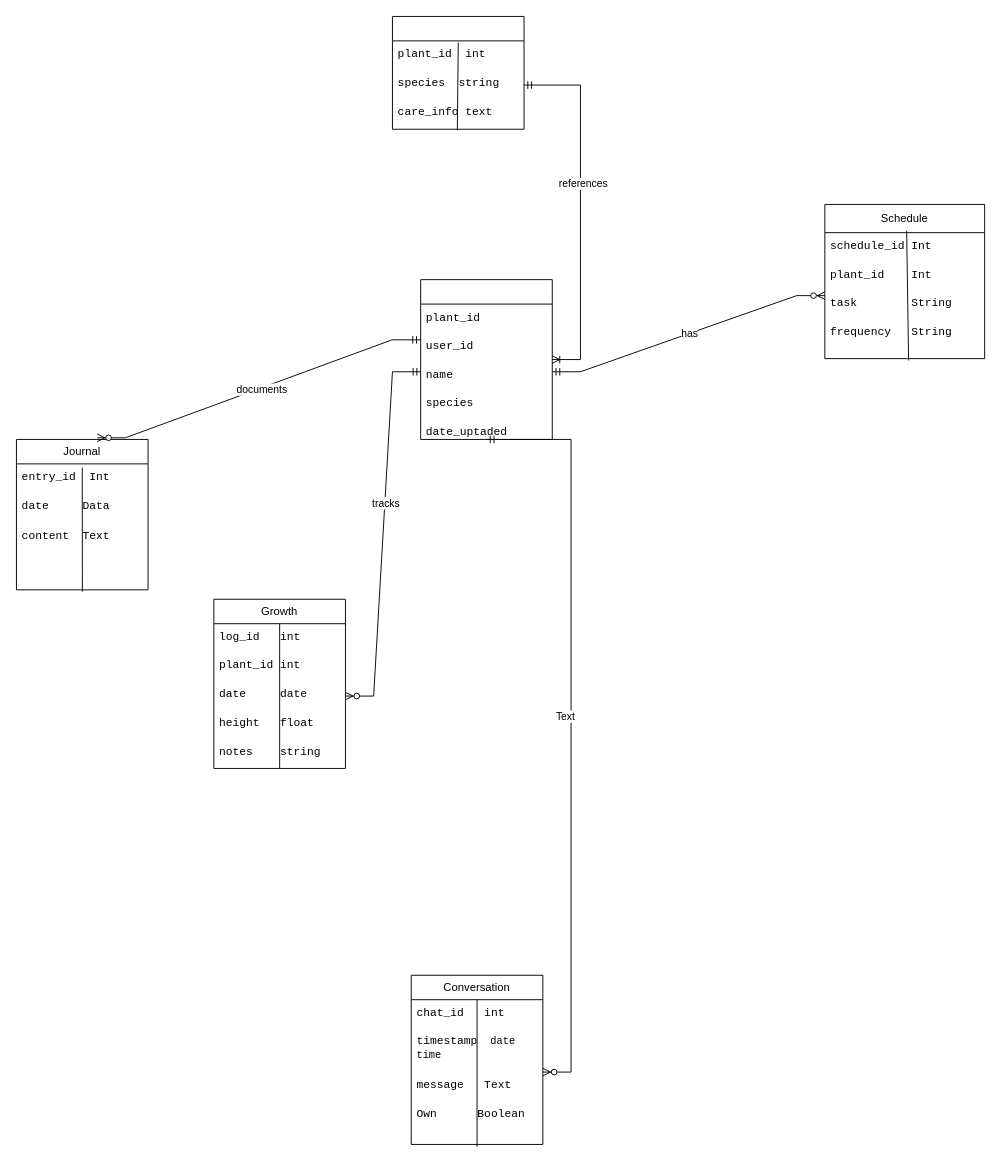
This 1001x1165 diagram has some shape labels left out. The box of each missing label's shape, as (x1, y1, x2, y2) in pixels:
PlantData: (392, 16, 524, 129)
Plants: (420, 279, 552, 439)
